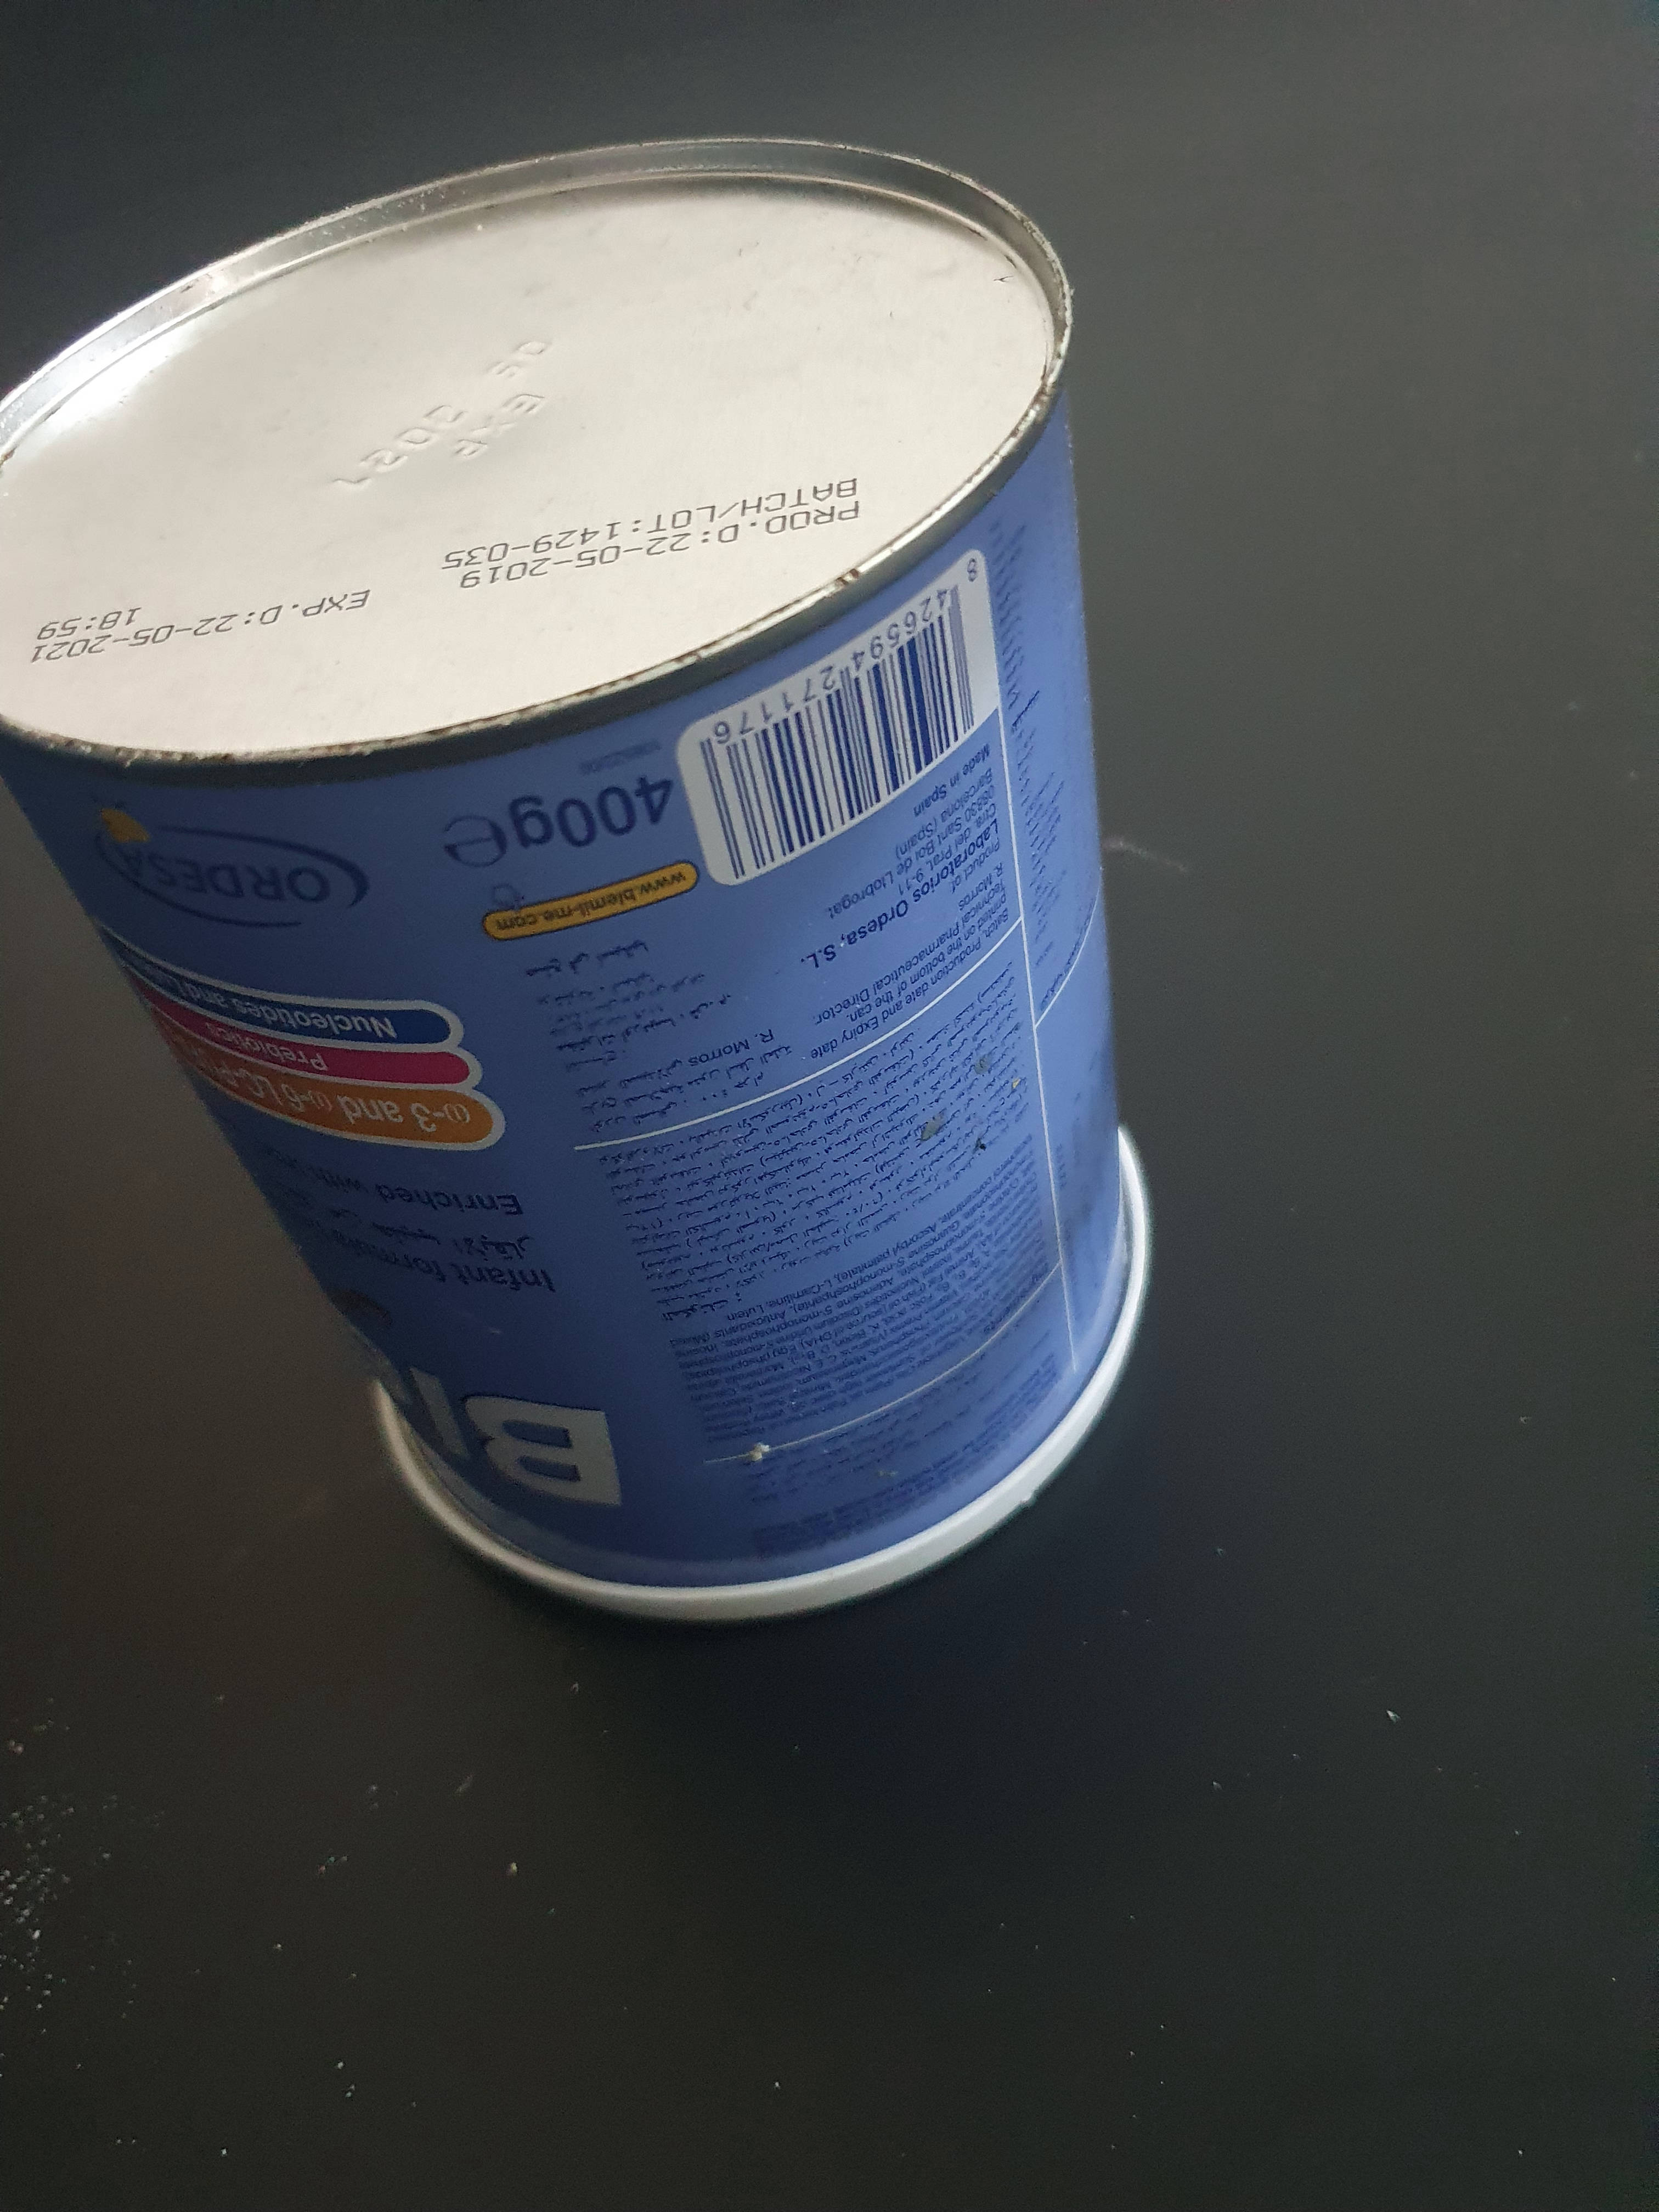metal: (0, 105, 1269, 1777)
